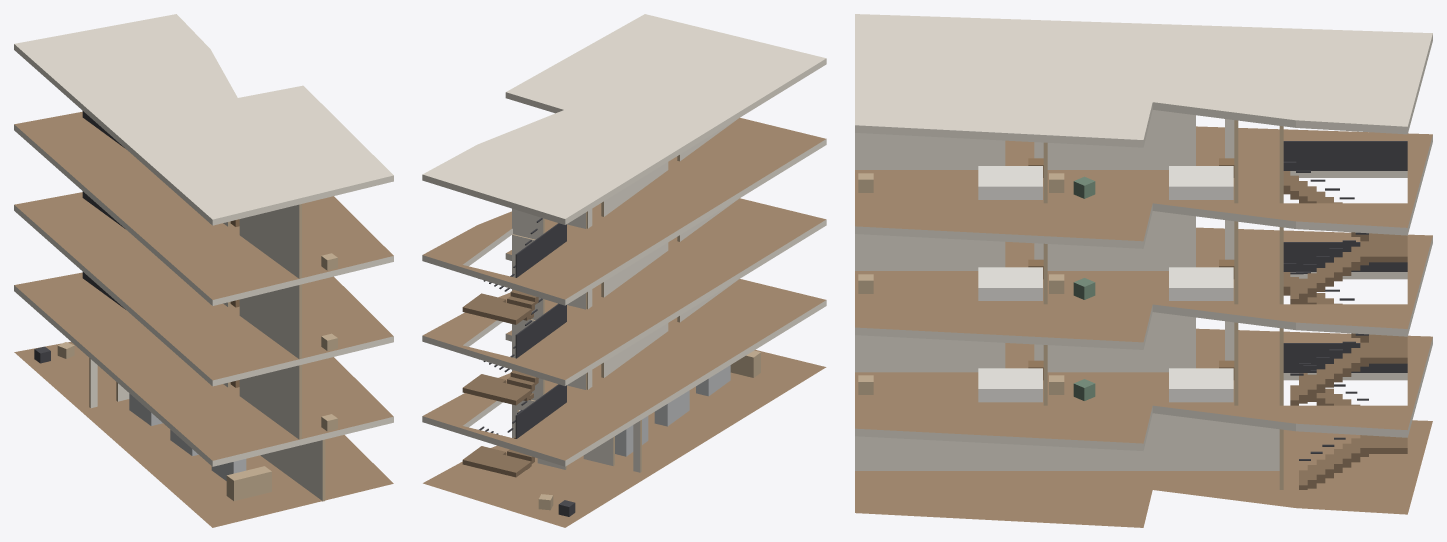
File: interior.glb
3 renders of one model, left to right at view 1: azimuth 30°, elevation 25°; view 2: azimuth 150°, elevation 25°; view 3: azimuth 270°, elevation 25°, orthographic. The views are drawn at different scales.
Parts seen in each view (by area): view 1: slabs, partitions, coarse-s0, stair; view 2: slabs, stair, partitions, coarse-s0; view 3: slabs, partitions, stair, coarse-s1, coarse-s2, coarse-s3.
Boxes of the visible parts, x1,y1,x2,y2 form: slabs: (14,14,393,527); partitions: (89,204,325,501); coarse-s0: (34,342,271,500); stair: (82,111,125,309); slabs: (422,14,826,527); stair: (462,218,566,477); partitions: (512,119,737,472); coarse-s0: (538,350,760,516); slabs: (855,14,1432,527); partitions: (855,110,1283,489); stair: (1283,141,1407,489); coarse-s1: (858,360,1234,402); coarse-s2: (858,259,1234,300); coarse-s3: (858,158,1234,199).
Bounding box in the file's own units: 9.23 × 13.25 × 17.87.
